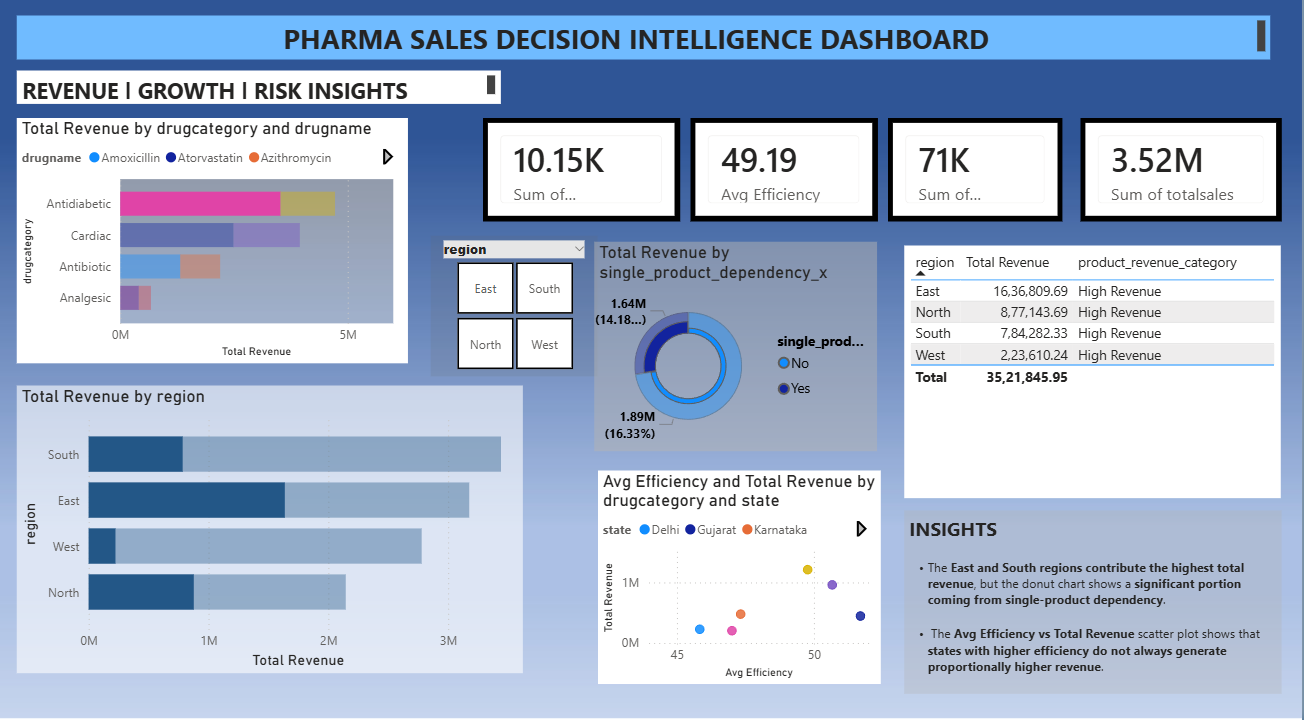

Layout of this report page (visuals, bound fields, positions):
{"tool":"powerbi","page":{"name":"Page 1","canvas":[1280,720],"ordinal":0},"visuals":[{"type":"cardVisual","fields":{"Data":["Sum(Sheet1 (2).region_mom_growth_pct_x)"]},"box":[476.2,127.6,193.5,101.5],"z":0},{"type":"cardVisual","fields":{"Data":["Sheet1.Avg Efficiency"]},"box":[679.2,127.6,183.9,101.5],"z":1000},{"type":"cardVisual","fields":{"Data":["Sum(Sheet1.totalsales)"]},"box":[1062.1,127.6,197.6,101.5],"z":2000},{"type":"clusteredBarChart","fields":{"Y":["Sheet1.Total Revenue"],"Category":["Sheet1.region"]},"box":[18.6,390.7,496.5,282.6],"z":3000},{"type":"barChart","fields":{"Y":["Sheet1.Total Revenue"],"Category":["Sheet1.drugcategory"],"Series":["Sheet1.drugname"]},"box":[18.6,127.9,383.7,240.7],"z":4000},{"type":"textbox","box":[18.4,27,1230.7,42.9],"z":5000},{"type":"slicer","fields":{"Values":["Sheet1.region"]},"box":[424.4,243,164,138.4],"z":7000},{"type":"donutChart","fields":{"Y":["Sheet1.Total Revenue"],"Category":["Sheet1 (2).single_product_dependency_x"]},"box":[584.9,248.8,277.9,205.8],"z":8000},{"type":"cardVisual","fields":{"Data":["Sum(Sheet1.unitssold)"]},"box":[874.1,127.6,171.5,101.5],"z":9000},{"type":"tableEx","fields":{"Values":["Sheet1.region","Sheet1.Total Revenue","Sheet1 (2).product_revenue_category"]},"box":[889.5,252.3,369.8,247.7],"z":9001},{"type":"textbox","box":[18.4,81,474.8,33.1],"z":9002},{"type":"scatterChart","fields":{"X":["Sheet1.Avg Efficiency"],"Y":["Sheet1.Total Revenue"],"Category":["Sheet1.drugcategory"],"Series":["Sheet1.state"]},"box":[588.4,473.3,277.9,209.3],"z":9003},{"type":"textbox","box":[889.6,512.9,370.6,180.4],"z":9004}]}

Visuals, with their boxes in screenshot pixels (x1, y1, x2, y2), scaled from the page's 1280x720 canvas onto the 1304x720 screenshot:
cardVisual - Sum(Sheet1 (2).region_mom_growth_pct_x): (x1=485, y1=128, x2=682, y2=229)
cardVisual - Sheet1.Avg Efficiency: (x1=692, y1=128, x2=879, y2=229)
cardVisual - Sum(Sheet1.totalsales): (x1=1082, y1=128, x2=1283, y2=229)
clusteredBarChart - Sheet1.Total Revenue x Sheet1.region: (x1=19, y1=391, x2=525, y2=673)
barChart - Sheet1.Total Revenue x Sheet1.drugcategory: (x1=19, y1=128, x2=410, y2=369)
textbox: (x1=19, y1=27, x2=1273, y2=70)
slicer - Sheet1.region: (x1=432, y1=243, x2=599, y2=381)
donutChart - Sheet1.Total Revenue x Sheet1 (2).single_product_dependency_x: (x1=596, y1=249, x2=879, y2=455)
cardVisual - Sum(Sheet1.unitssold): (x1=890, y1=128, x2=1065, y2=229)
tableEx - Sheet1.region x Sheet1.Total Revenue: (x1=906, y1=252, x2=1283, y2=500)
textbox: (x1=19, y1=81, x2=502, y2=114)
scatterChart - Sheet1.Avg Efficiency x Sheet1.Total Revenue: (x1=599, y1=473, x2=883, y2=683)
textbox: (x1=906, y1=513, x2=1284, y2=693)
